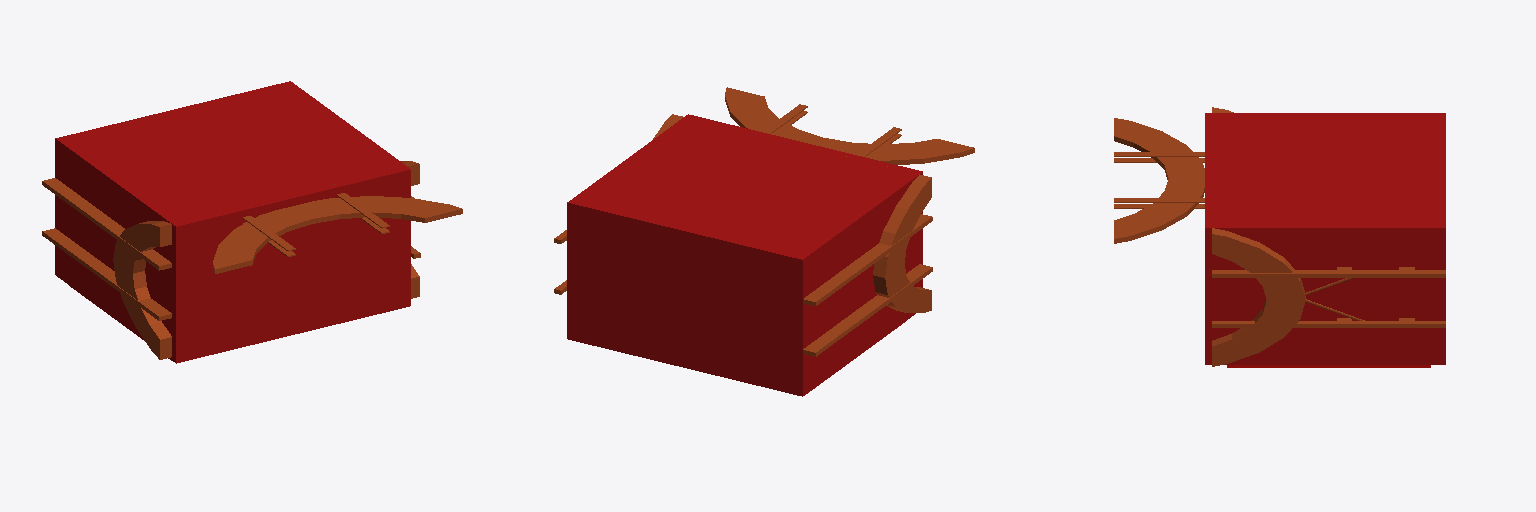
The model's file is tinker.obj.
3 views of the same model, side by side, from view 1: azimuth 30°, elevation 25°; view 2: azimuth 150°, elevation 25°; view 3: azimuth 270°, elevation 25° (orthographic).
Parts seen in each view (by area): view 1: obj_0; view 2: obj_0; view 3: obj_0.
Boxes of the visible parts, x1,y1,x2,y2 form: obj_0: [42, 81, 462, 363]; obj_0: [554, 87, 974, 396]; obj_0: [1114, 107, 1445, 367].
Bounding box in the file's own units: 40 × 25 × 44.